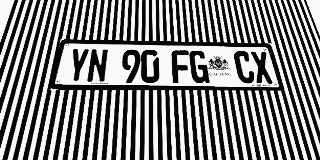0: (141, 50, 159, 83)
9: (121, 49, 140, 83)
C: (233, 51, 256, 83)
F: (171, 50, 191, 83)
G: (189, 50, 210, 83)
N: (86, 49, 108, 83)
X: (250, 51, 274, 83)
Y: (66, 48, 90, 83)
